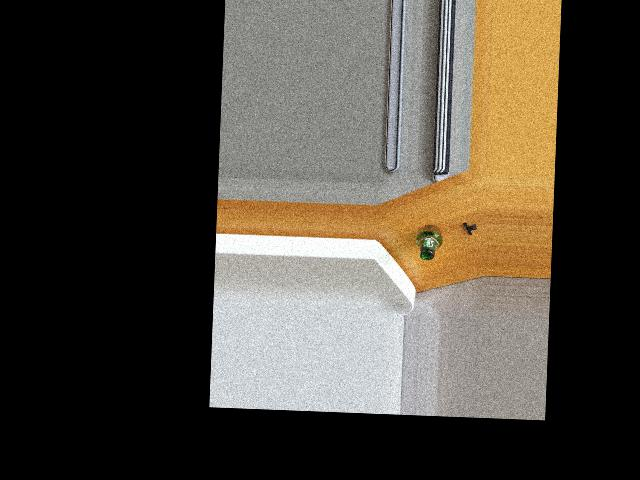beer: (414, 223, 443, 260)
